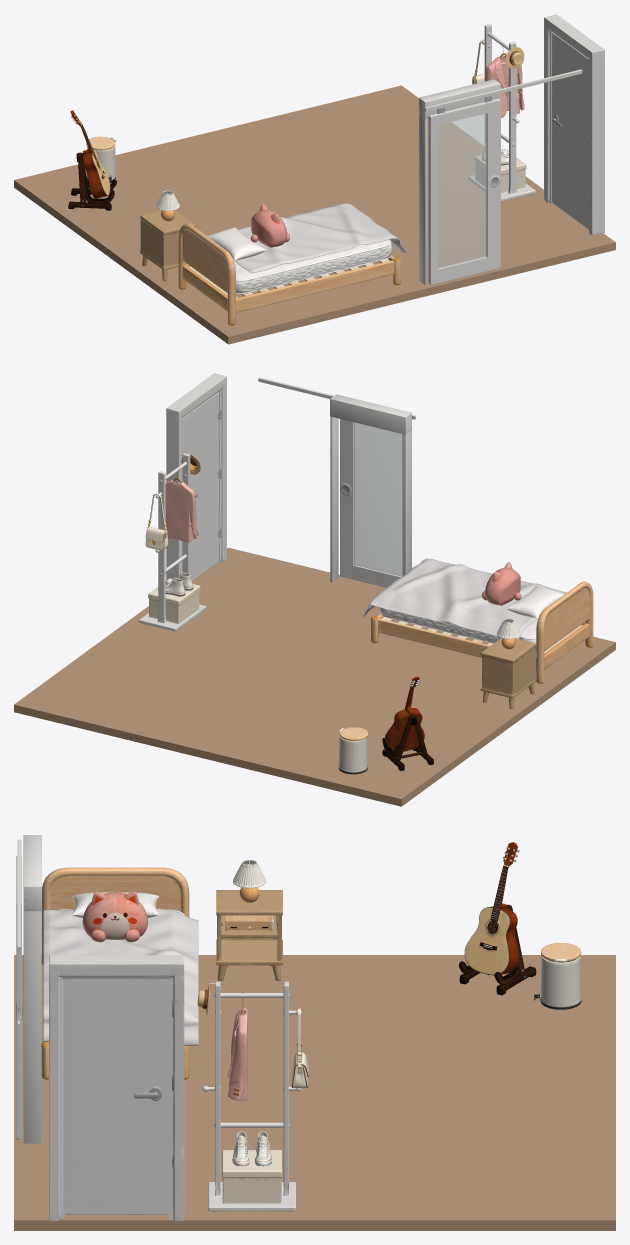
The picture shows the model from 3 angles, top to bottom: view 1: azimuth 30°, elevation 25°; view 2: azimuth 150°, elevation 25°; view 3: azimuth 270°, elevation 25°; orthographic projection. The views are drawn at different scales.
Parts seen in each view (by area): view 1: bedroom.floor, bathroom.frostedGlass, b01-bed-frame.mesh.0, d04-entry-leaf.mesh.0, d02-closet-leaf.mesh.0, d03-entry-frame.mesh.0, b03-duvet.mesh.0, b02-mattress.mesh.0, c01-coat-rack.mesh.0, n01-carcass.mesh.0, bathroom.reveal.left, bathroom.reveal.head (+7 smaller); view 2: bedroom.floor, bathroom.frostedGlass, b03-duvet.mesh.0, b01-bed-frame.mesh.0, d04-entry-leaf.mesh.0, d03-entry-frame.mesh.0, c01-coat-rack.mesh.0, d02-closet-leaf.mesh.0, n01-carcass.mesh.0, bathroom.reveal.head, c02-pink-coat.mesh.0, bathroom.reveal.right (+8 smaller); view 3: bedroom.floor, d04-entry-leaf.mesh.0, d03-entry-frame.mesh.0, c01-coat-rack.mesh.0, b03-duvet.mesh.0, b01-bed-frame.mesh.0, bathroom.reveal.right, n01-carcass.mesh.0, g01-guitar.mesh.0, b05-peach-cat.mesh.0, t01-bin-body.mesh.0, c02-pink-coat.mesh.0 (+12 smaller).
Boxes of the visible parts, x1=… form: bedroom.floor: x1=14, y1=85, x2=615, y2=344; bathroom.frostedGlass: x1=438, y1=113, x2=486, y2=268; b01-bed-frame.mesh.0: x1=178, y1=223, x2=401, y2=325; d04-entry-leaf.mesh.0: x1=552, y1=33, x2=588, y2=229; d02-closet-leaf.mesh.0: x1=428, y1=96, x2=500, y2=285; d03-entry-frame.mesh.0: x1=544, y1=14, x2=604, y2=235; b03-duvet.mesh.0: x1=233, y1=203, x2=406, y2=273; b02-mattress.mesh.0: x1=234, y1=239, x2=392, y2=293; c01-coat-rack.mesh.0: x1=468, y1=24, x2=535, y2=201; n01-carcass.mesh.0: x1=140, y1=210, x2=195, y2=281; bathroom.reveal.left: x1=419, y1=100, x2=427, y2=285; bathroom.reveal.head: x1=419, y1=79, x2=500, y2=119; bedroom.floor: x1=14, y1=547, x2=615, y2=806; bathroom.frostedGlass: x1=354, y1=422, x2=402, y2=576; b03-duvet.mesh.0: x1=363, y1=558, x2=566, y2=638; b01-bed-frame.mesh.0: x1=370, y1=581, x2=593, y2=683; d04-entry-leaf.mesh.0: x1=182, y1=391, x2=218, y2=581; d03-entry-frame.mesh.0: x1=166, y1=373, x2=226, y2=579; c01-coat-rack.mesh.0: x1=139, y1=453, x2=206, y2=631; d02-closet-leaf.mesh.0: x1=340, y1=419, x2=403, y2=587; n01-carcass.mesh.0: x1=480, y1=638, x2=536, y2=709; bathroom.reveal.head: x1=330, y1=394, x2=411, y2=434; c02-pink-coat.mesh.0: x1=165, y1=479, x2=198, y2=542; bathroom.reveal.right: x1=330, y1=416, x2=338, y2=582; bedroom.floor: x1=14, y1=955, x2=615, y2=1230; d04-entry-leaf.mesh.0: x1=65, y1=978, x2=167, y2=1214; d03-entry-frame.mesh.0: x1=49, y1=955, x2=184, y2=1221; c01-coat-rack.mesh.0: x1=202, y1=981, x2=301, y2=1211; b03-duvet.mesh.0: x1=43, y1=908, x2=198, y2=1045; b01-bed-frame.mesh.0: x1=41, y1=867, x2=189, y2=1079; bathroom.reveal.right: x1=23, y1=889, x2=41, y2=1143; n01-carcass.mesh.0: x1=216, y1=890, x2=282, y2=980; g01-guitar.mesh.0: x1=464, y1=842, x2=519, y2=975; b05-peach-cat.mesh.0: x1=82, y1=892, x2=147, y2=942; t01-bin-body.mesh.0: x1=540, y1=956, x2=581, y2=1009; c02-pink-coat.mesh.0: x1=227, y1=1008, x2=248, y2=1100.
Size of the model in its own units: 4.82 by 2.26 by 4.6.
Materials: 32 (23 with a texture image).
